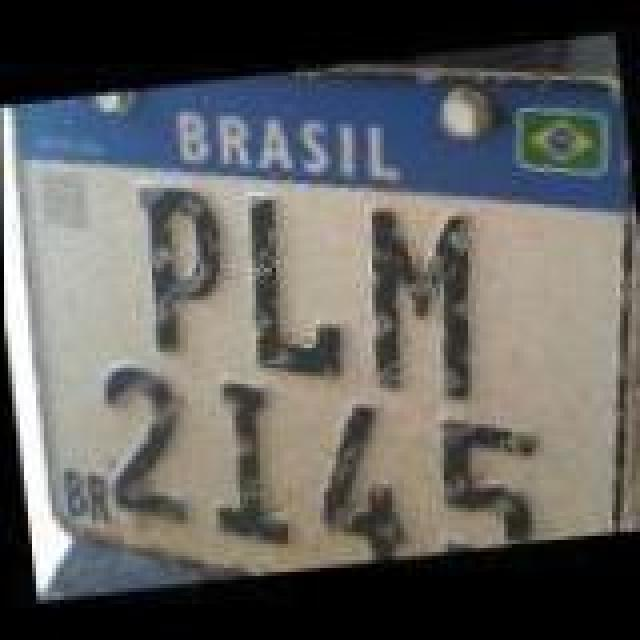2: (92, 358, 200, 534)
4: (306, 398, 410, 570)
5: (422, 408, 550, 556)
I: (198, 368, 294, 556)
L: (228, 182, 348, 386)
M: (348, 192, 492, 416)
P: (132, 170, 236, 354)
